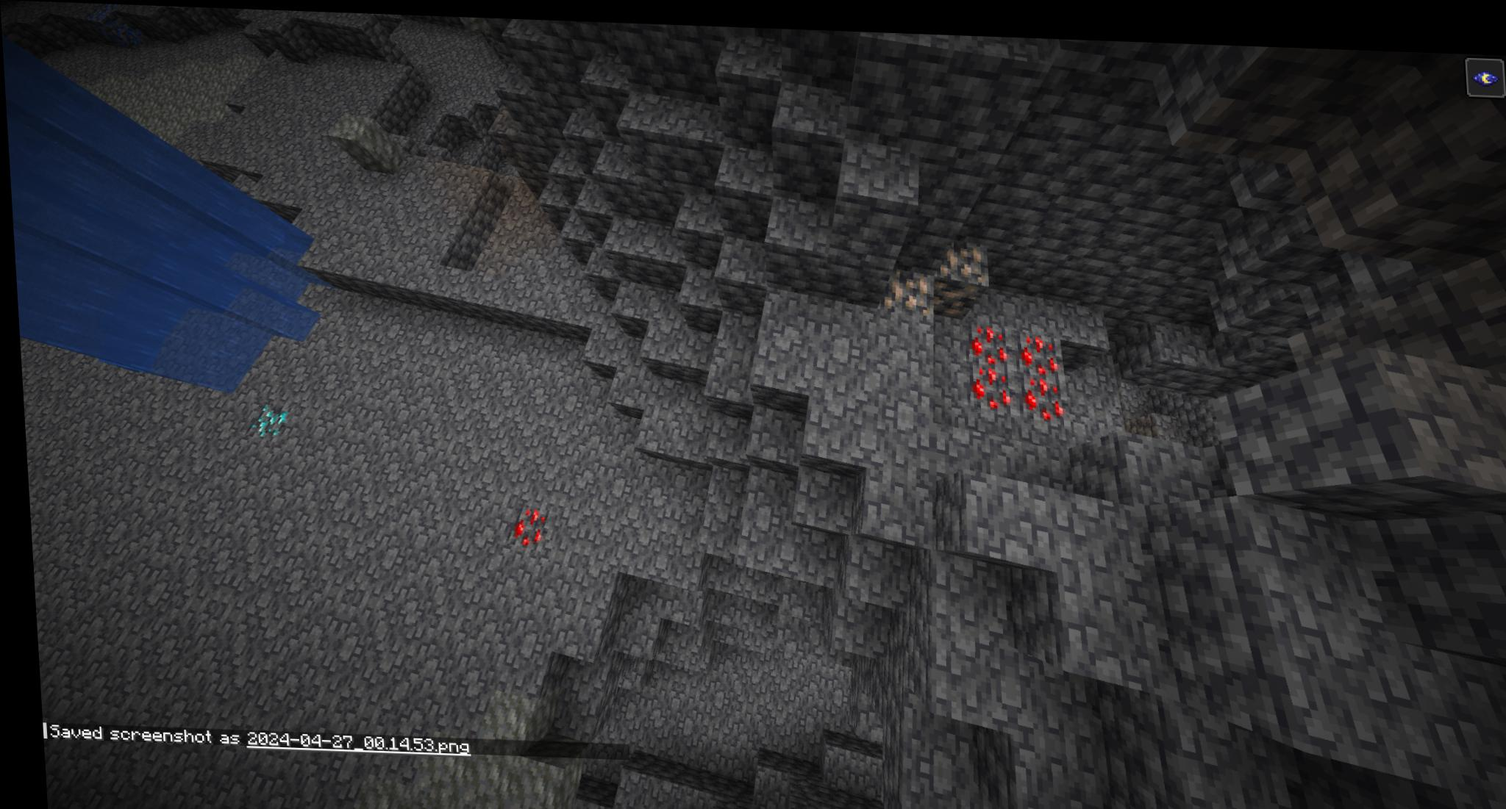diamond ore: (242, 402, 294, 444)
iron ore: (933, 234, 991, 297), (882, 261, 937, 317)
redstone ore: (966, 316, 1063, 410), (503, 506, 542, 539)
